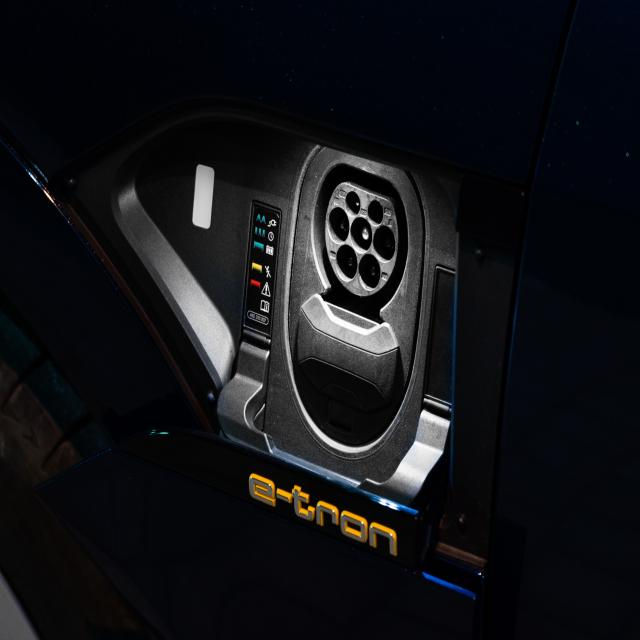Type 2: (276, 127, 450, 324)
